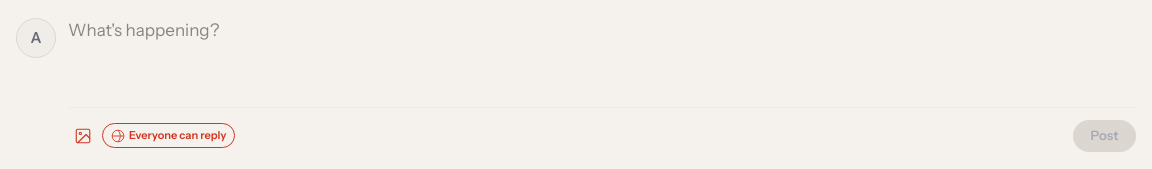
it: PostComposer › submit button is enabled when text is entered
Step 1. Type "Hello world" into the text box with test id "composer-textarea" → coordinates (602, 58), box x1=68 y1=16 x2=1136 y2=100
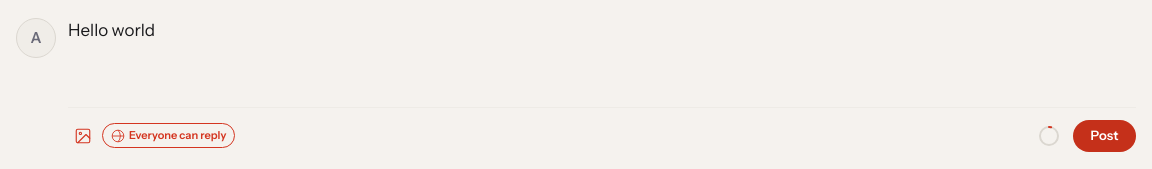
Check: the button with test id "composer-submit" is enabled, box x1=1073 y1=120 x2=1136 y2=152
